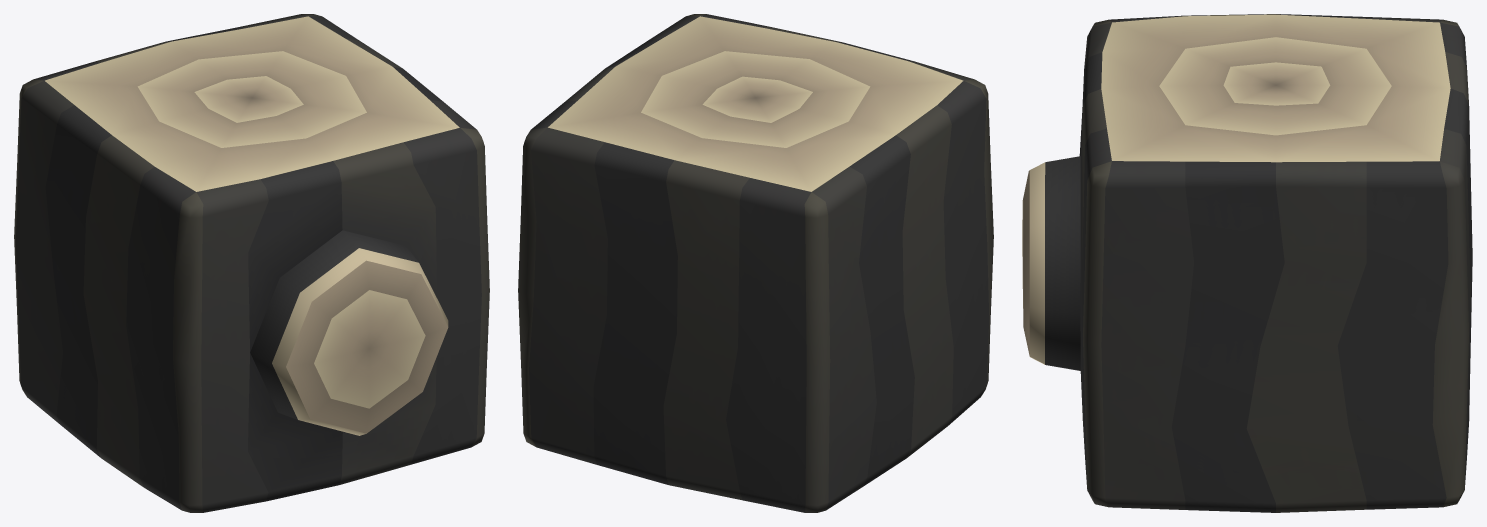
Rendered from ColdWood_Log3.fbx.
The picture shows the model from 3 angles, left to right: view 1: azimuth 30°, elevation 25°; view 2: azimuth 150°, elevation 25°; view 3: azimuth 270°, elevation 25°; orthographic projection. The views are drawn at different scales.
Parts seen in each view (by area): view 1: ColdWood_Log3_LOD0; view 2: ColdWood_Log3_LOD0; view 3: ColdWood_Log3_LOD0.
Part boxes in pixels (x1,y1,x2,y2): ColdWood_Log3_LOD0: [14, 14, 489, 512]; ColdWood_Log3_LOD0: [518, 14, 993, 512]; ColdWood_Log3_LOD0: [1022, 14, 1472, 512].
Size of what is drawn, in the model's own units: 1.09 by 1.09 by 1.24.
